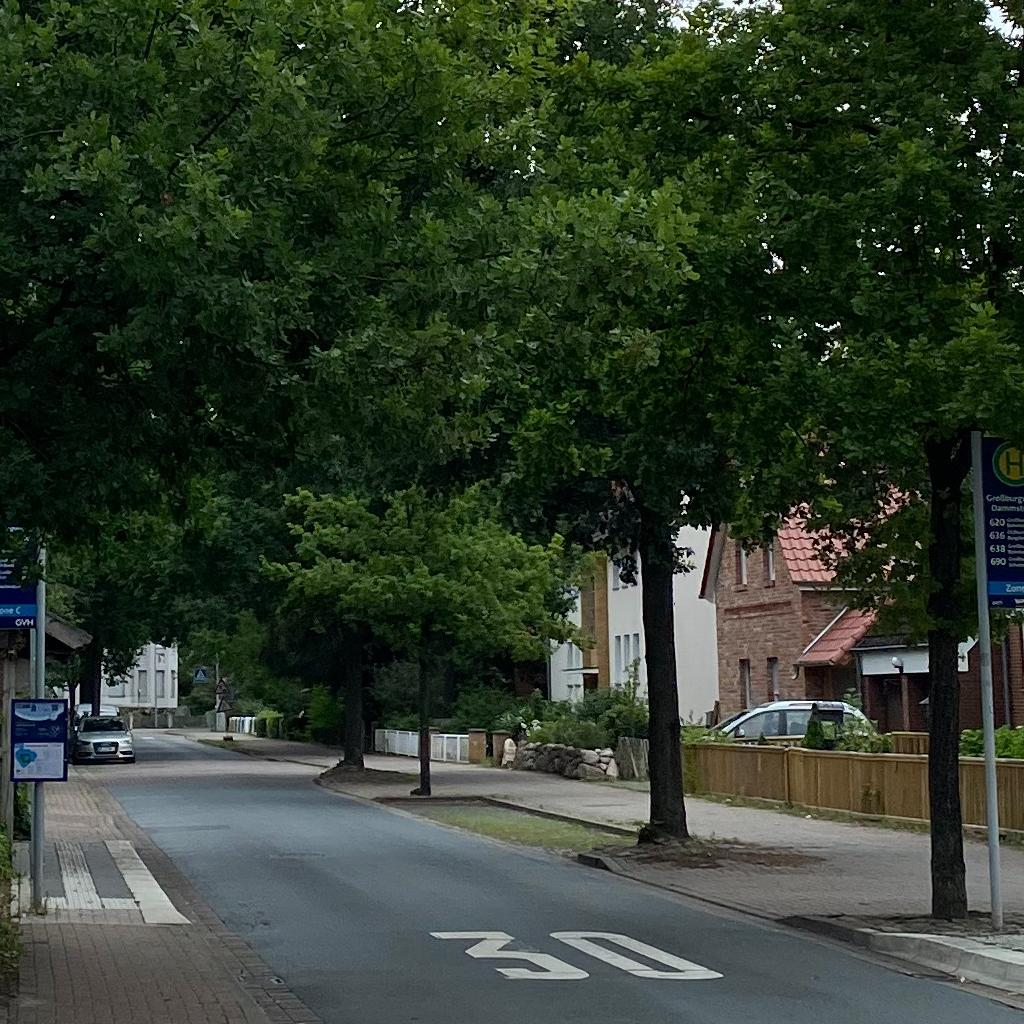tree: (1, 1, 721, 689), (656, 1, 1023, 921), (518, 1, 822, 843), (258, 479, 603, 795), (258, 593, 412, 769), (71, 572, 241, 716)
